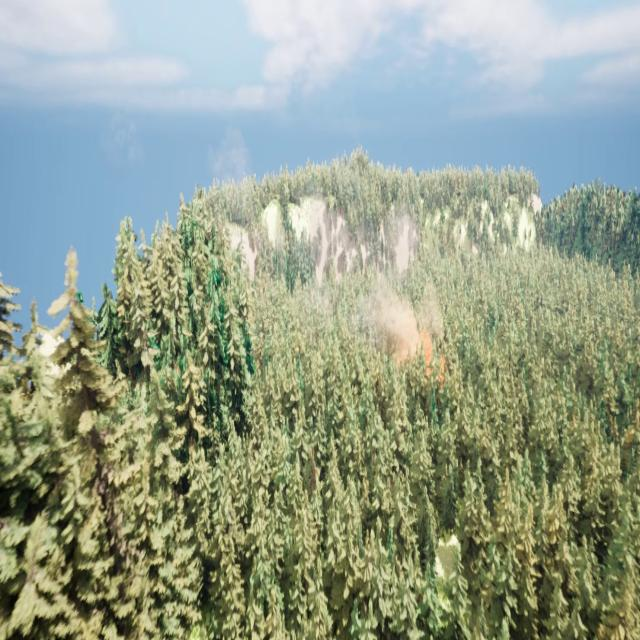smoke: (372, 282, 442, 375)
